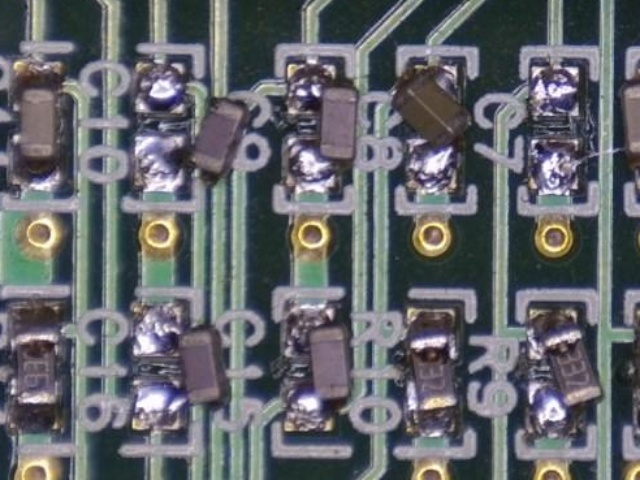pcb_defect: (133, 63, 249, 191), (131, 303, 230, 430), (390, 65, 473, 191), (282, 64, 359, 194), (527, 307, 602, 437), (282, 304, 353, 432), (404, 306, 460, 435), (621, 66, 640, 189)
